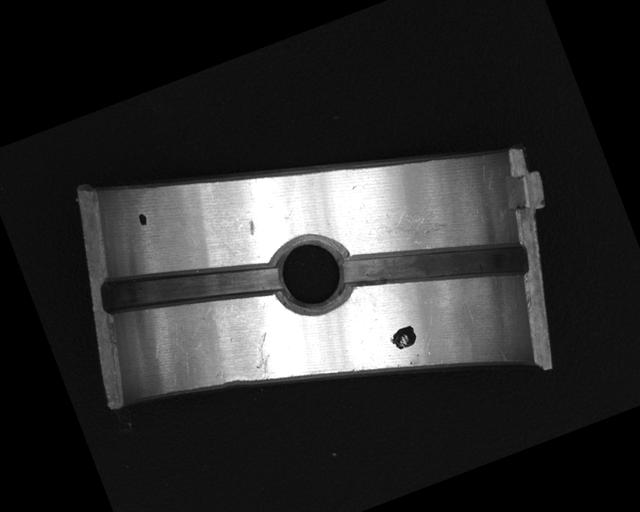blot: (385, 322, 420, 352), (135, 211, 149, 228)
bruise: (245, 219, 258, 237)
gap: (340, 196, 531, 331), (97, 223, 282, 348)
hole: (261, 225, 361, 323)
nick: (245, 330, 282, 381)
scratch: (378, 193, 457, 255)
